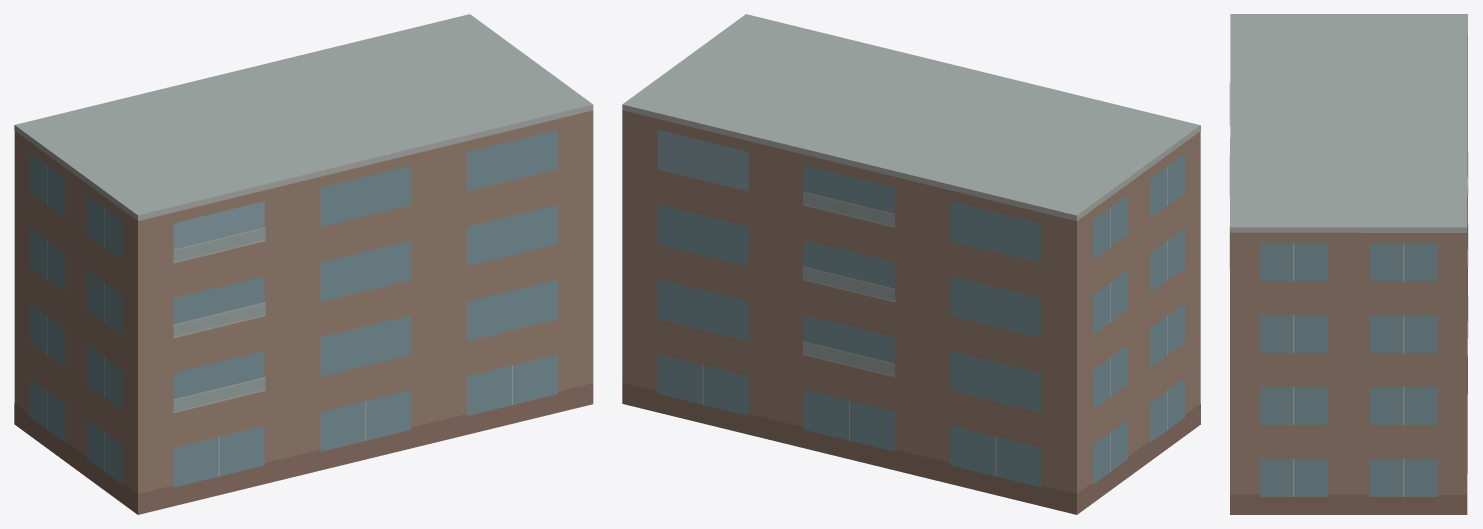
File: survey-upis-32538571.glb
The picture shows the model from 3 angles, left to right: view 1: azimuth 30°, elevation 25°; view 2: azimuth 150°, elevation 25°; view 3: azimuth 270°, elevation 25°; orthographic projection. The views are drawn at different scales.
Visible parts, largest first — view 1: survey-upis-32538571.tmp; view 2: survey-upis-32538571.tmp; view 3: survey-upis-32538571.tmp.
Part boxes in pixels (x1,y1,x2,y2): survey-upis-32538571.tmp: [14, 14, 593, 514]; survey-upis-32538571.tmp: [622, 14, 1200, 514]; survey-upis-32538571.tmp: [1229, 14, 1468, 514].
Size of the model in its own units: 20.39 by 12.8 by 9.66.
